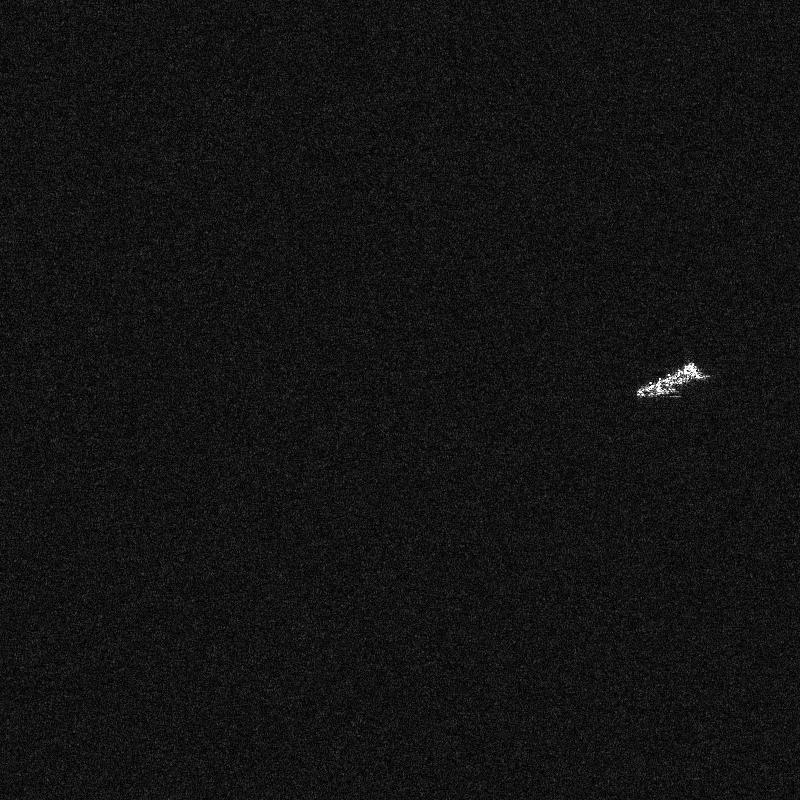ship: (636, 362, 709, 397)
